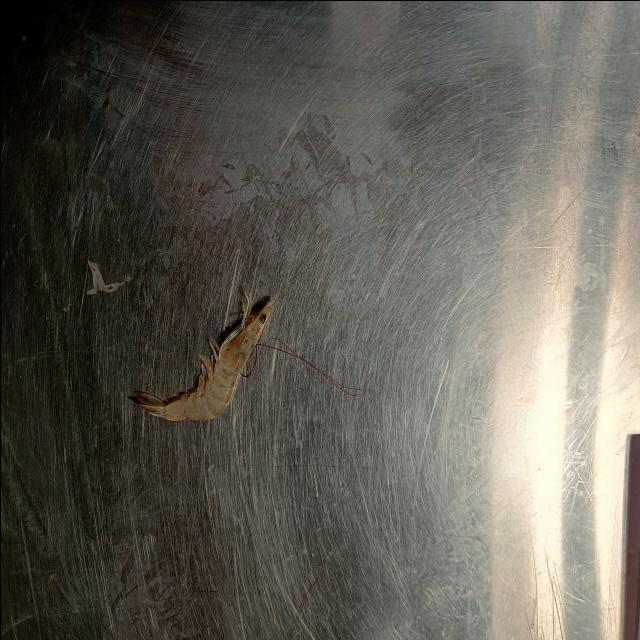shrimp: (135, 291, 274, 421)
